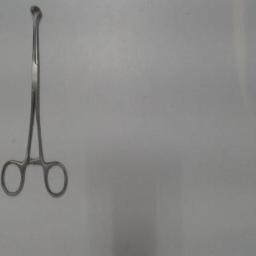Babcock Tissue Forceps: (0, 2, 70, 200)
